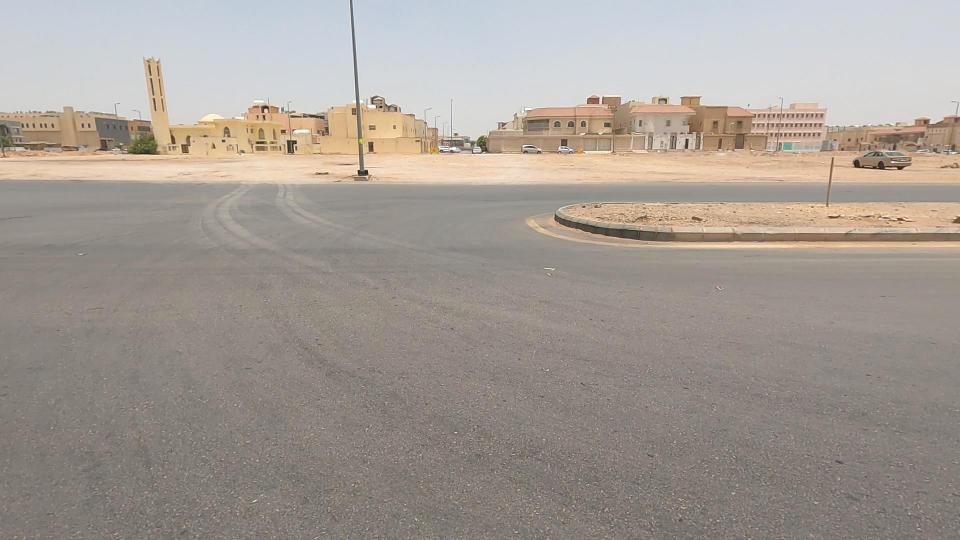CLUTTER_SIDEWALK: (499, 154, 899, 256), (752, 160, 960, 267)
